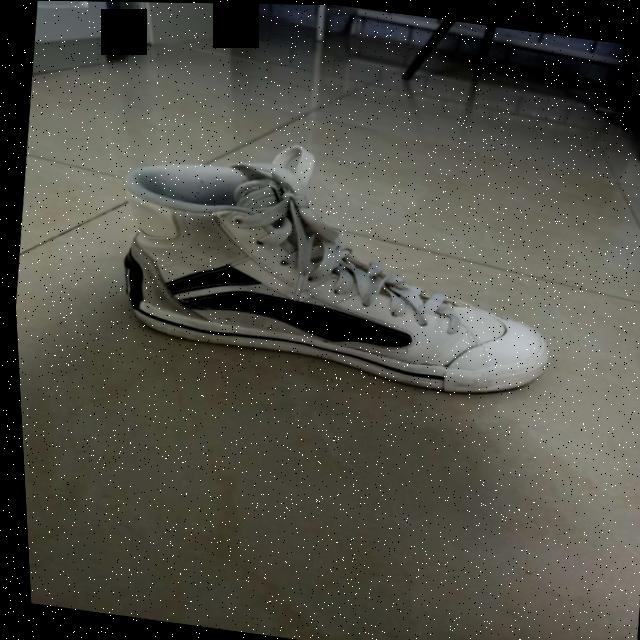shoes: (96, 120, 571, 408)
